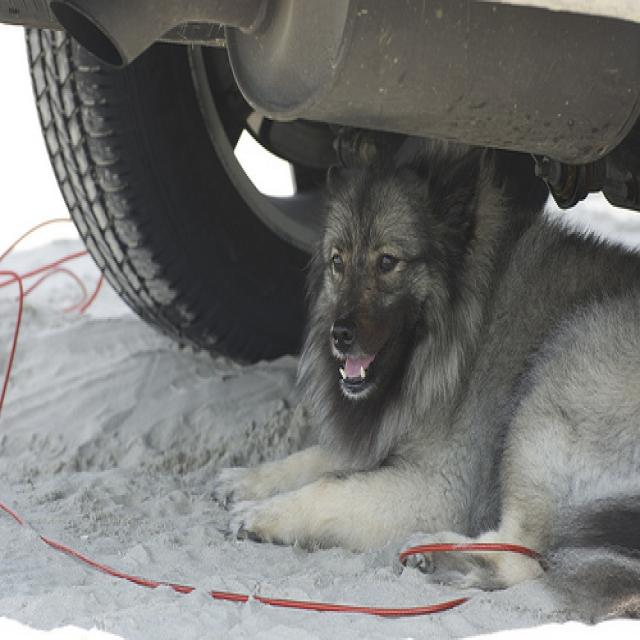dog-keeshond: (207, 133, 637, 599)
